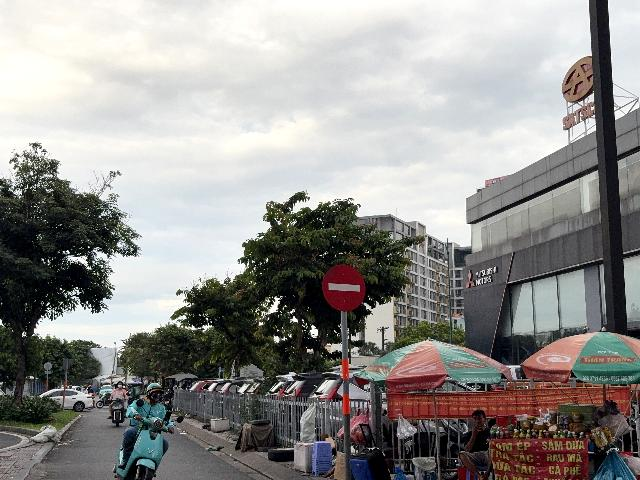cam-di-nguoc-chieu: (323, 264, 366, 312)
